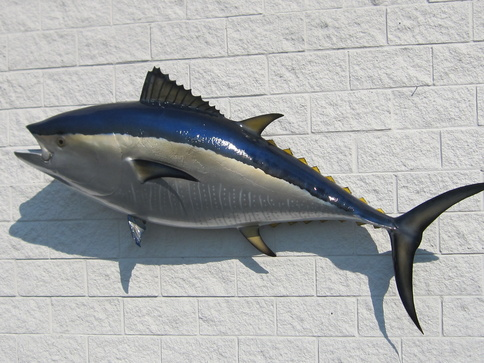Bluefina Tuna: (17, 72, 484, 328)
